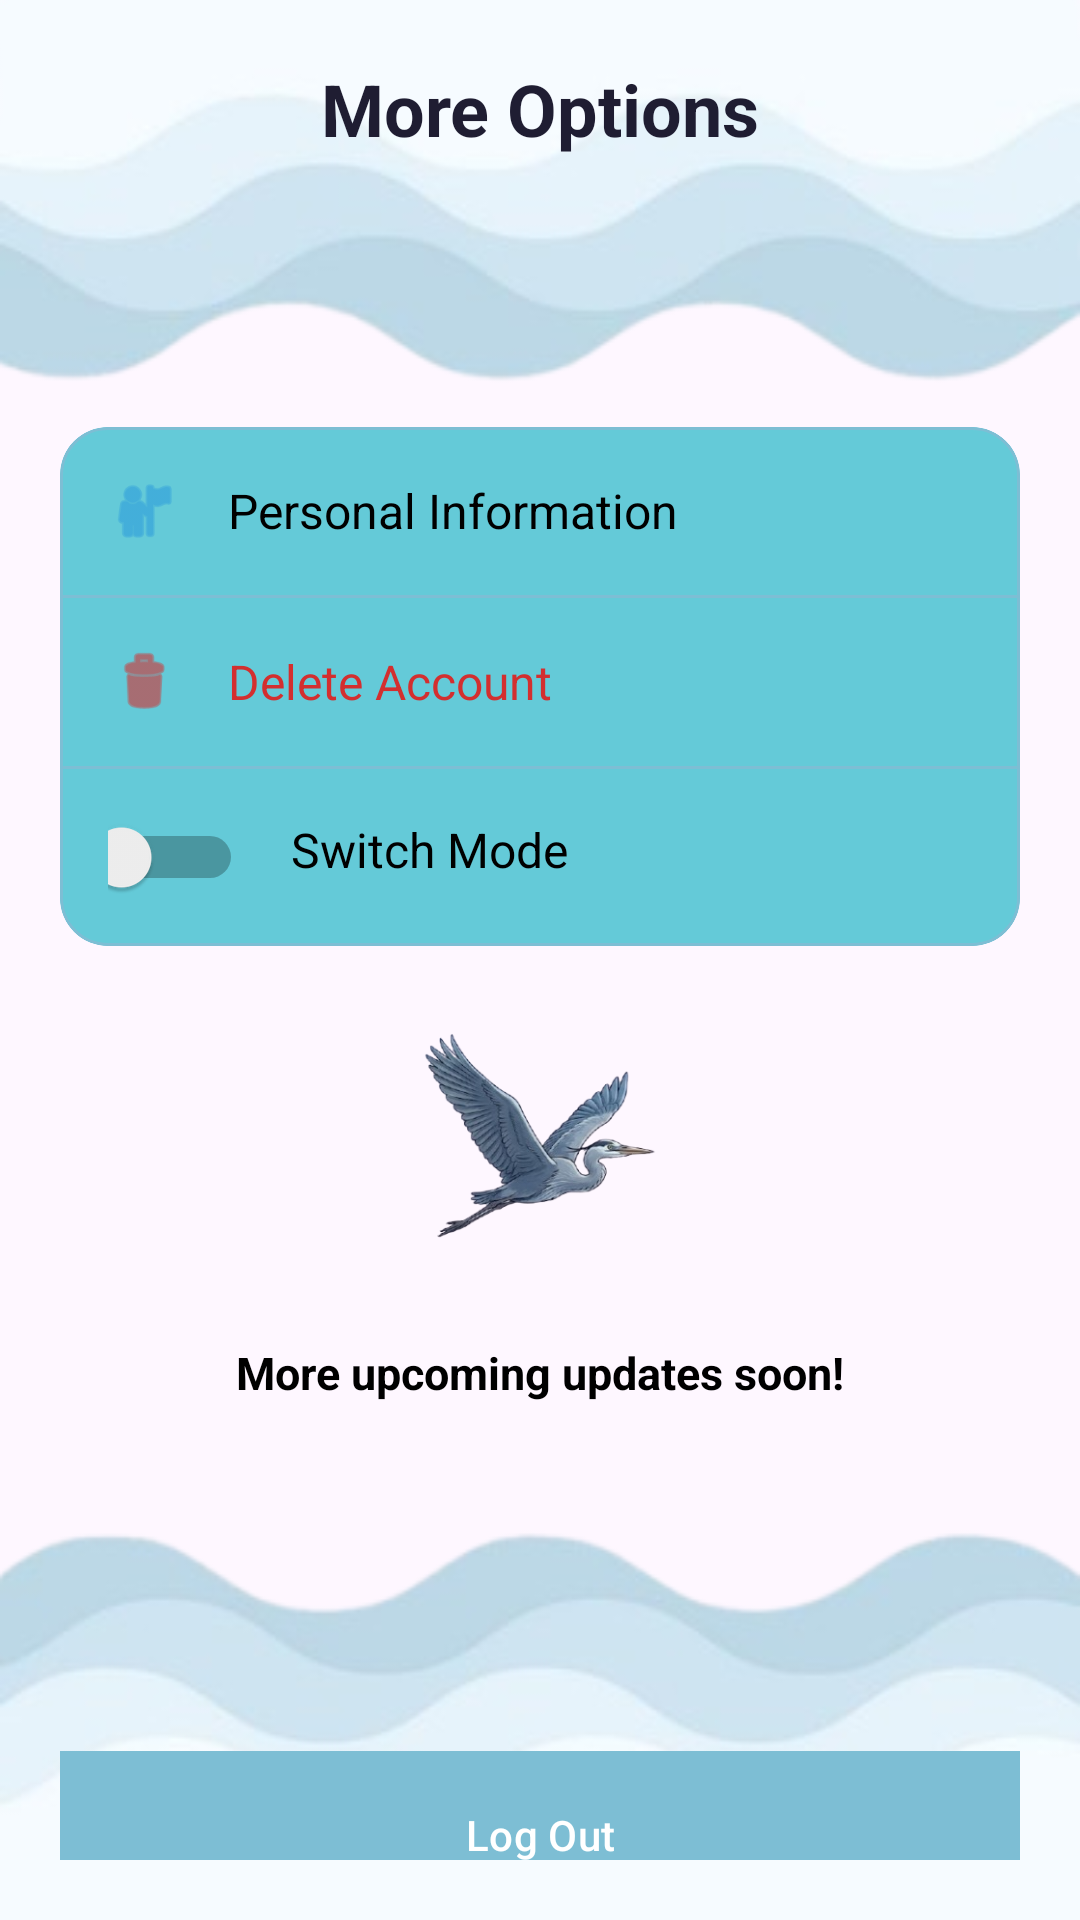

Screen size 1080 × 1920. Icon name, then its center in pixels as point (x, y):
fly: point (540, 1135)
